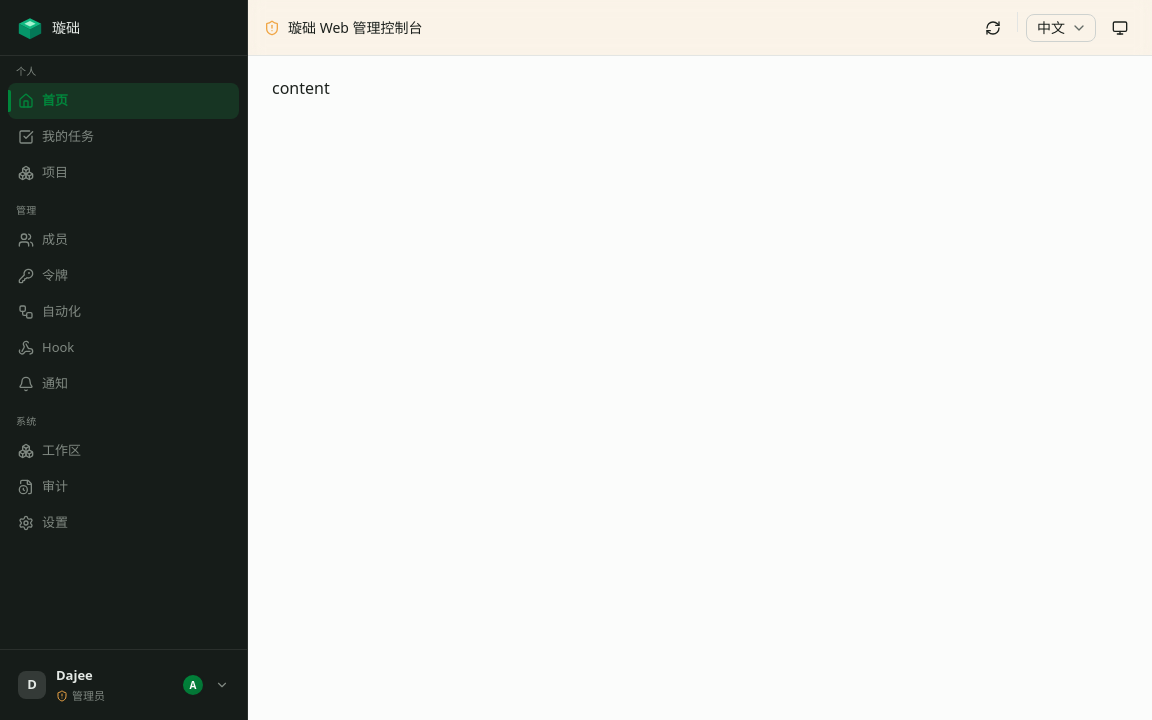
Test: AppShell › shows return-to-admin in acting mode inside sidebar identity block
Click the button "D Dajee 管理员 A" at (124,685), box [10,660,237,710]
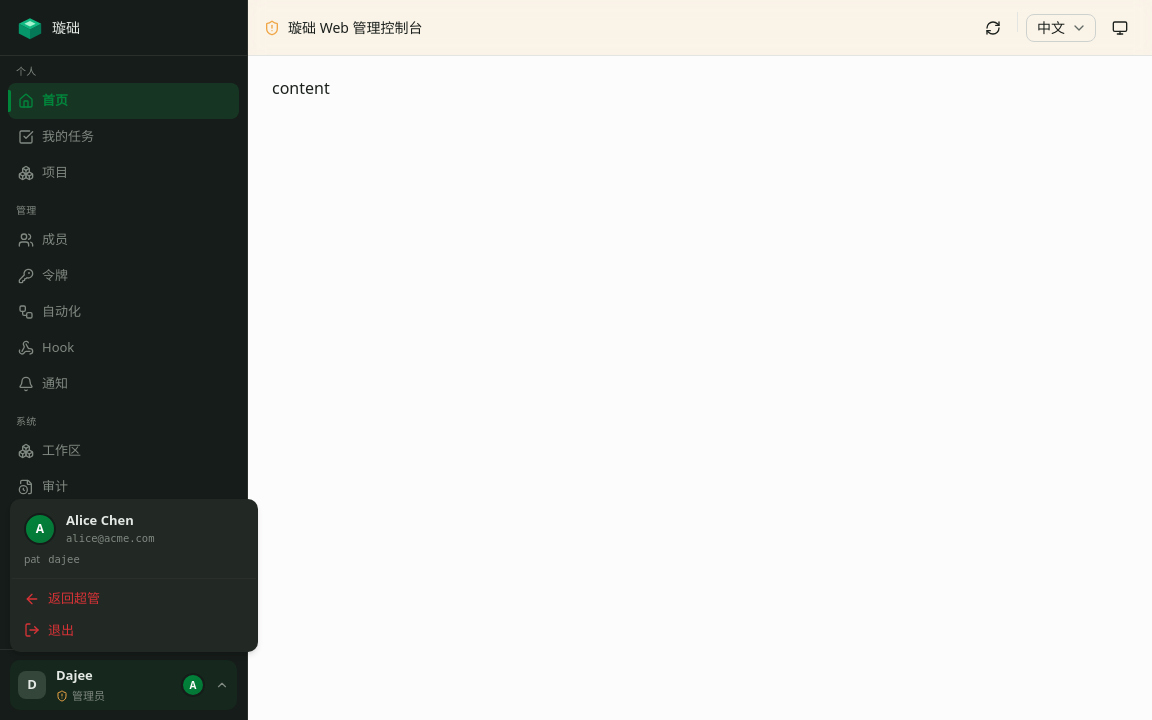
Now the menu item "返回超管" is shown, box [24,589,100,607]
